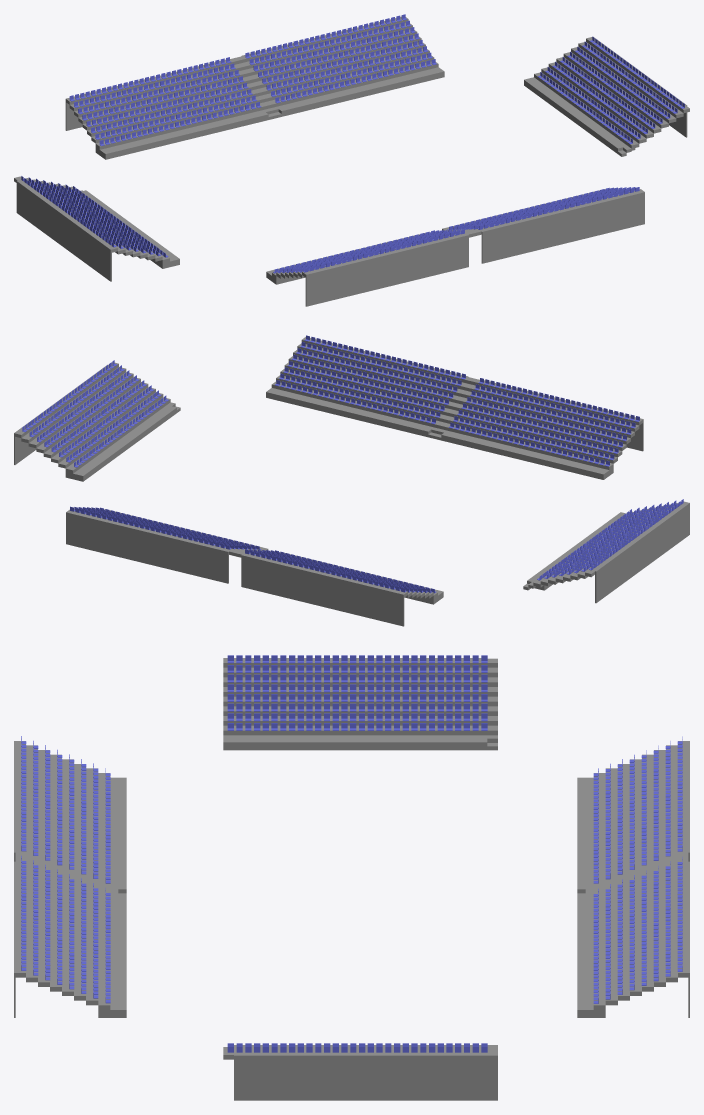
Rendered from Stands.fbx.
3 renders of one model, top to bottom at view 1: azimuth 30°, elevation 25°; view 2: azimuth 150°, elevation 25°; view 3: azimuth 270°, elevation 25°, orthographic. The views are drawn at different scales.
Parts seen in each view (by area): view 1: Stand Large 01, Stand Large 02, Stand Small 02, Seating 01, Seating 02, Seating 06, Stand Small 01, Seating 03, Seating 05, Seating 04; view 2: Stand Large 02, Stand Large 01, Stand Small 02, Seating 04, Seating 05, Seating 06, Stand Small 01, Seating 03, Seating 02, Seating 01; view 3: Stand Large 02, Stand Large 01, Stand Small 01, Seating 03, Stand Small 02, Seating 05, Seating 04, Seating 01, Seating 02, Seating 06.
Part boxes in pixels (bbox=[...]): Stand Large 01: bbox=[65, 16, 444, 159]; Stand Large 02: bbox=[266, 189, 644, 306]; Stand Small 02: bbox=[524, 36, 689, 156]; Seating 01: bbox=[69, 57, 261, 145]; Seating 02: bbox=[245, 14, 436, 103]; Seating 06: bbox=[537, 36, 684, 144]; Stand Small 01: bbox=[14, 176, 179, 281]; Seating 03: bbox=[21, 176, 168, 257]; Seating 05: bbox=[273, 229, 464, 273]; Seating 04: bbox=[447, 187, 639, 230]; Stand Large 02: bbox=[266, 337, 643, 479]; Stand Large 01: bbox=[66, 509, 443, 626]; Stand Small 02: bbox=[14, 362, 180, 481]; Seating 04: bbox=[275, 335, 465, 424]; Seating 05: bbox=[448, 378, 639, 466]; Seating 06: bbox=[22, 360, 168, 467]; Stand Small 01: bbox=[523, 501, 689, 603]; Seating 03: bbox=[537, 499, 683, 580]; Seating 02: bbox=[70, 506, 261, 549]; Seating 01: bbox=[245, 549, 436, 593]; Stand Large 02: bbox=[14, 741, 126, 1017]; Stand Large 01: bbox=[577, 741, 689, 1017]; Stand Small 01: bbox=[223, 658, 497, 750]; Seating 03: bbox=[227, 655, 487, 730]; Stand Small 02: bbox=[223, 1045, 497, 1100]; Seating 05: bbox=[21, 736, 110, 883]; Seating 04: bbox=[21, 855, 110, 1003]; Seating 01: bbox=[593, 736, 682, 883]; Seating 02: bbox=[593, 857, 682, 1003]; Seating 06: bbox=[227, 1043, 487, 1052].
Size of the model in its own units: 7056 by 418 by 5068.
